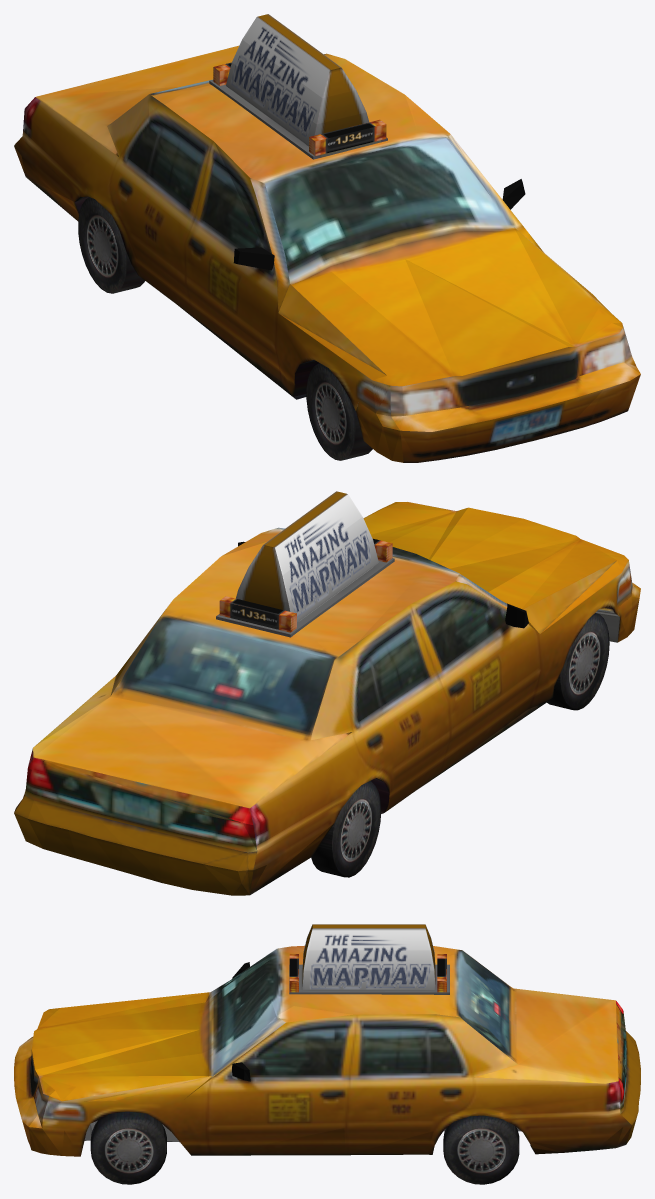
The model's file is taxis_nyc_taxi.obj.
3 renders of one model, top to bottom at view 1: azimuth 30°, elevation 25°; view 2: azimuth 150°, elevation 25°; view 3: azimuth 270°, elevation 25°, orthographic. The views are drawn at different scales.
Visible parts, largest first — view 1: taxis_nyc_taxi; view 2: taxis_nyc_taxi; view 3: taxis_nyc_taxi.
Boxes of the visible parts, box(x1,y1,x2,y2) form: taxis_nyc_taxi: box(14, 14, 640, 462); taxis_nyc_taxi: box(14, 491, 640, 895); taxis_nyc_taxi: box(14, 924, 640, 1184).
Size of the model in its own units: 2.02 by 1.82 by 4.95.
1 material, 1 textured.
